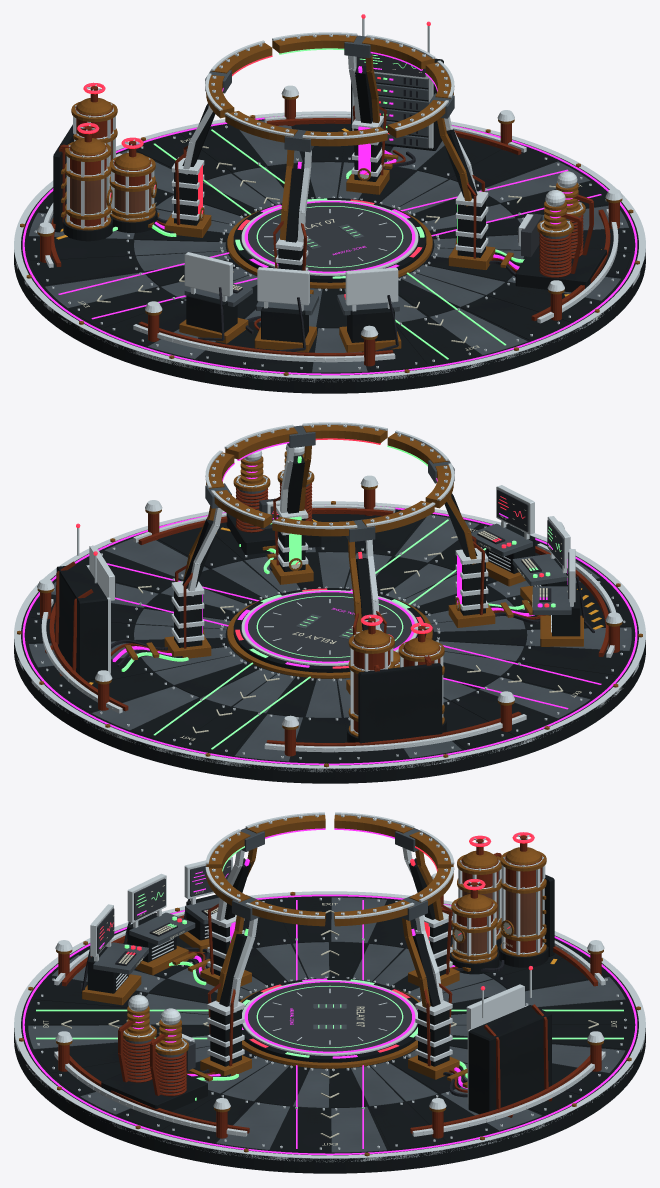
Rendered from relay_07_spawn.glb.
3 renders of one model, top to bottom at view 1: azimuth 30°, elevation 25°; view 2: azimuth 150°, elevation 25°; view 3: azimuth 270°, elevation 25°, orthographic.
Visible parts, largest first — view 1: 01 Deck plates | Iron, 01 Deck plates | Steel, 00 Circular deck | Iron, 00 Circular deck | Chrome, 02 Receiver pad | Panel, 11 Suspended phase halo | Brass, 20 Coolant bank | Brass, 20 Coolant bank | Copper, 61 Perimeter conduits | Chrome, 61 Perimeter conduits | Copper, 00 Circular deck | Purple, 11 Suspended phase halo | Chrome (+43 smaller); view 2: 01 Deck plates | Iron, 01 Deck plates | Steel, 00 Circular deck | Iron, 00 Circular deck | Chrome, 02 Receiver pad | Panel, 11 Suspended phase halo | Brass, 20 Coolant bank | Iron, 50 Telemetry rack | Iron, 61 Perimeter conduits | Chrome, 61 Perimeter conduits | Copper, 00 Circular deck | Purple, 11 Suspended phase halo | Chrome (+42 smaller); view 3: 01 Deck plates | Iron, 01 Deck plates | Steel, 00 Circular deck | Iron, 02 Receiver pad | Panel, 50 Telemetry rack | Iron, 00 Circular deck | Chrome, 11 Suspended phase halo | Brass, 20 Coolant bank | Brass, 20 Coolant bank | Copper, 61 Perimeter conduits | Chrome, 40 Dynamo array | Copper, 20 Coolant bank | Chrome (+48 smaller).
Boxes of the visible parts, <box> form: 01 Deck plates | Iron: <box>28,123,631,372</box>; 01 Deck plates | Steel: <box>29,120,628,372</box>; 00 Circular deck | Iron: <box>14,119,645,393</box>; 00 Circular deck | Chrome: <box>14,111,645,382</box>; 02 Receiver pad | Panel: <box>248,202,411,271</box>; 11 Suspended phase halo | Brass: <box>206,35,453,146</box>; 20 Coolant bank | Brass: <box>61,98,156,230</box>; 20 Coolant bank | Copper: <box>59,86,151,226</box>; 61 Perimeter conduits | Chrome: <box>43,114,618,362</box>; 61 Perimeter conduits | Copper: <box>51,118,610,356</box>; 00 Circular deck | Purple: <box>22,116,637,375</box>; 11 Suspended phase halo | Chrome: <box>205,32,454,139</box>; 01 Deck plates | Iron: <box>28,510,630,762</box>; 01 Deck plates | Steel: <box>29,514,631,761</box>; 00 Circular deck | Iron: <box>14,509,645,783</box>; 00 Circular deck | Chrome: <box>14,501,645,772</box>; 02 Receiver pad | Panel: <box>248,592,411,661</box>; 11 Suspended phase halo | Brass: <box>206,425,453,536</box>; 20 Coolant bank | Iron: <box>347,663,446,751</box>; 50 Telemetry rack | Iron: <box>56,563,107,680</box>; 61 Perimeter conduits | Chrome: <box>41,504,616,752</box>; 61 Perimeter conduits | Copper: <box>49,508,608,746</box>; 00 Circular deck | Purple: <box>22,506,637,765</box>; 11 Suspended phase halo | Chrome: <box>205,422,454,529</box>; 01 Deck plates | Iron: <box>28,897,631,1152</box>; 01 Deck plates | Steel: <box>28,897,625,1152</box>; 00 Circular deck | Iron: <box>14,896,645,1173</box>; 02 Receiver pad | Panel: <box>248,982,411,1051</box>; 50 Telemetry rack | Iron: <box>468,1005,551,1114</box>; 00 Circular deck | Chrome: <box>14,891,645,1162</box>; 11 Suspended phase halo | Brass: <box>206,815,453,926</box>; 20 Coolant bank | Brass: <box>451,847,546,963</box>; 20 Coolant bank | Copper: <box>456,835,542,954</box>; 61 Perimeter conduits | Chrome: <box>54,904,605,1136</box>; 40 Dynamo array | Copper: <box>118,1020,186,1096</box>; 20 Coolant bank | Chrome: <box>452,835,545,961</box>.
Size of what is drawn, in the model's own units: 20 by 6.15 by 20.
Materials: 14 (4 with a texture image).
